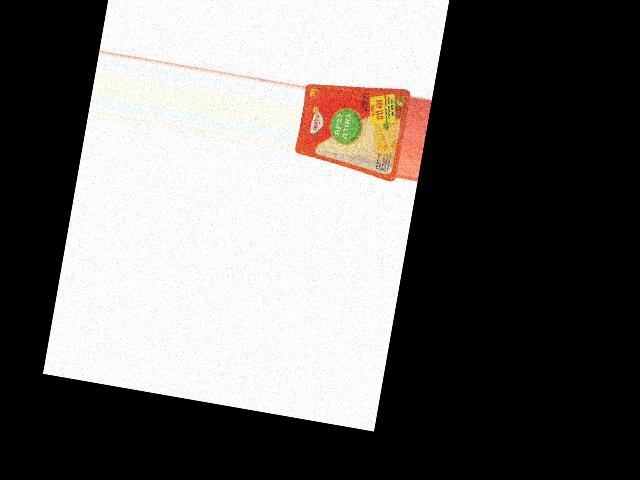cheese: (293, 72, 411, 182)
